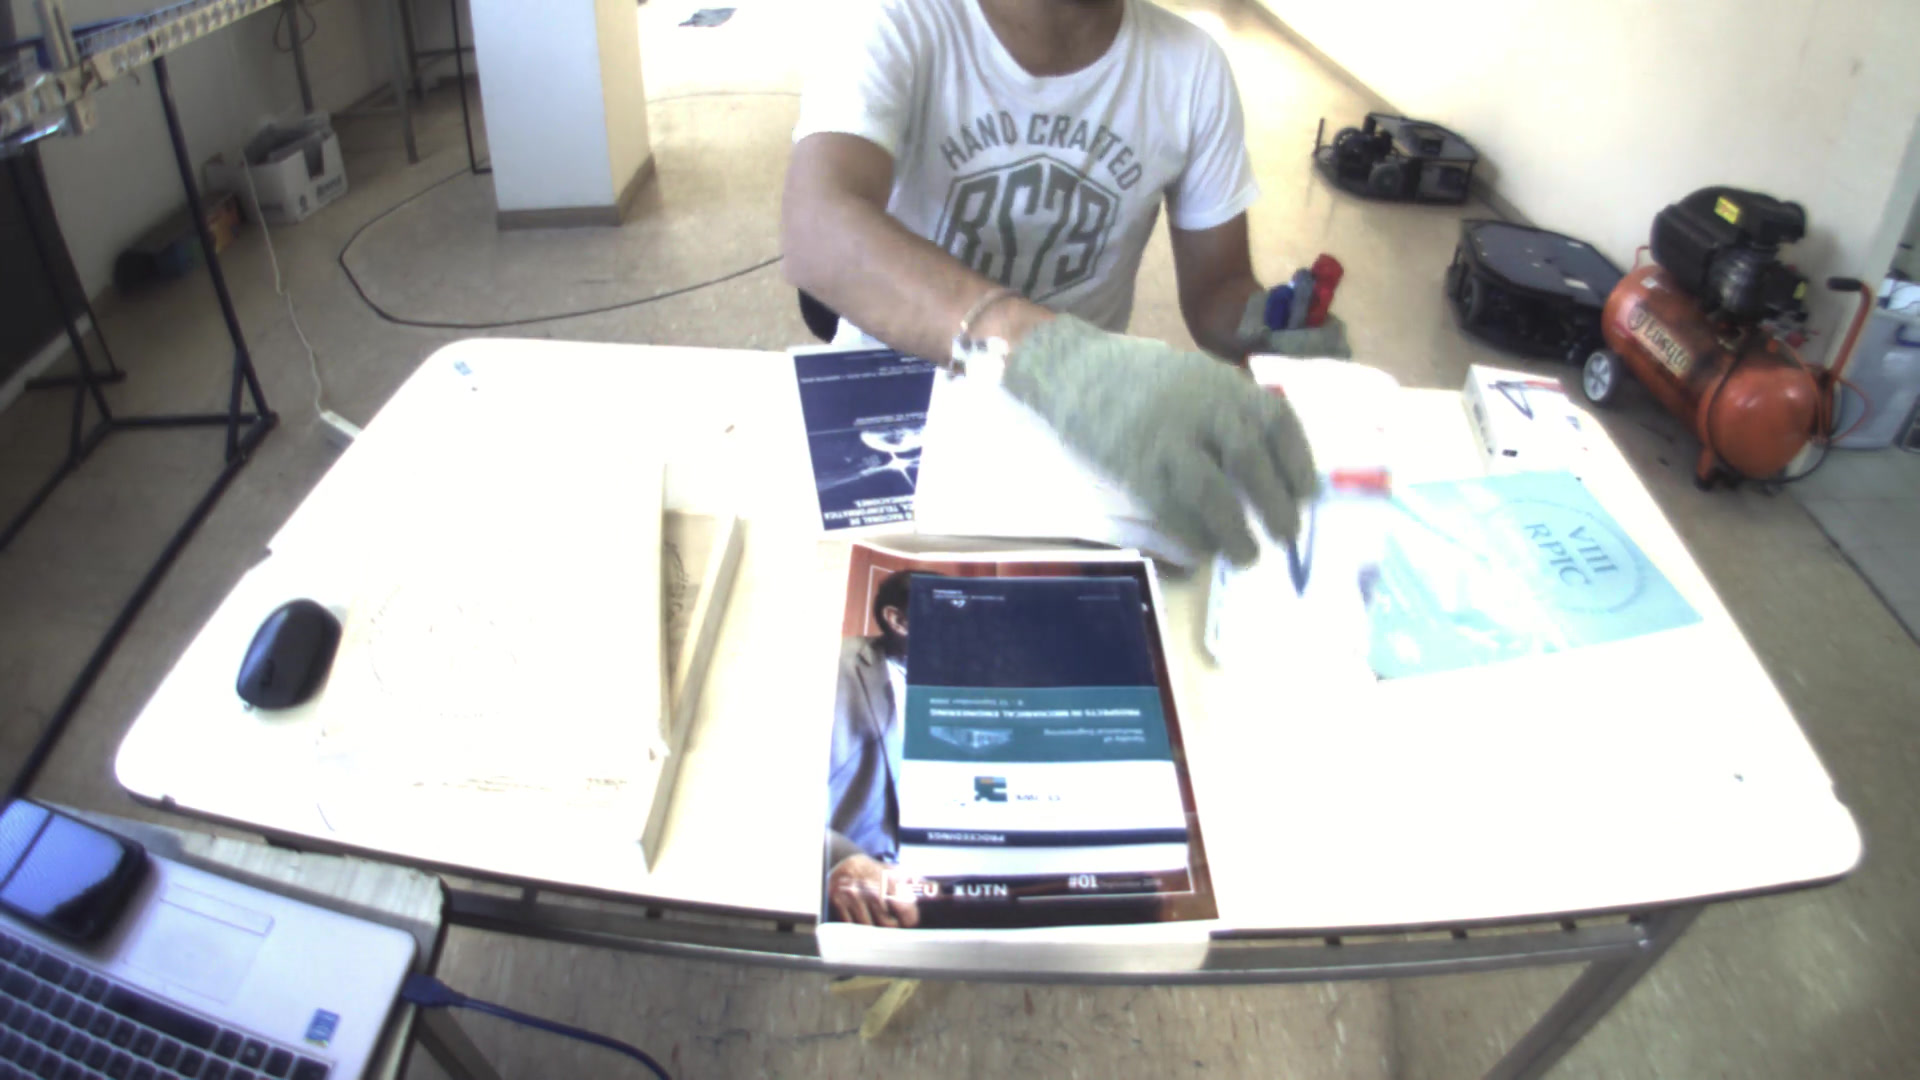hand: (996, 309, 1320, 572)
